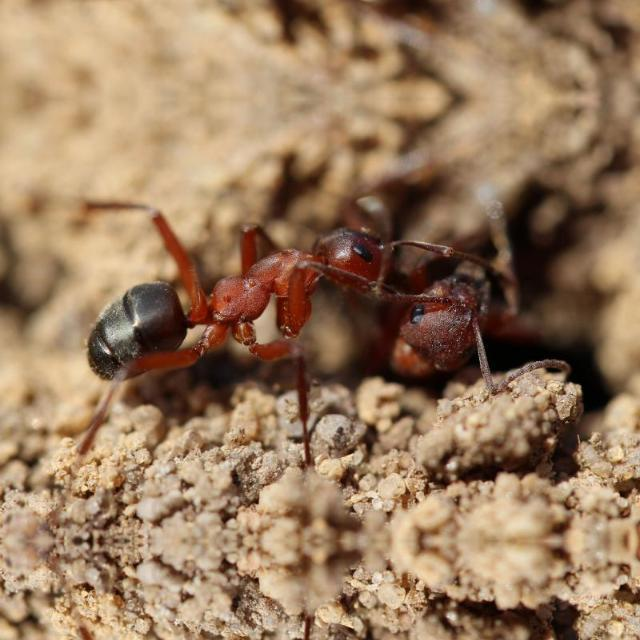Formica: (50, 188, 386, 394), (355, 230, 523, 394)
